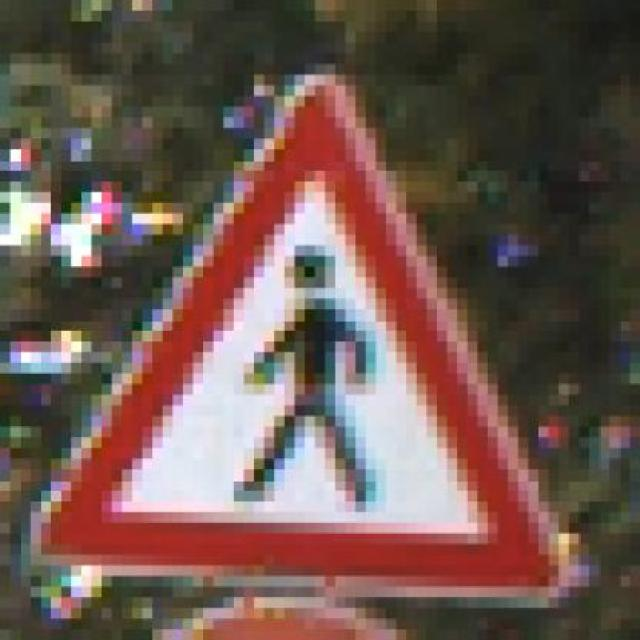Pedestrian Crossing: (40, 53, 589, 609)
